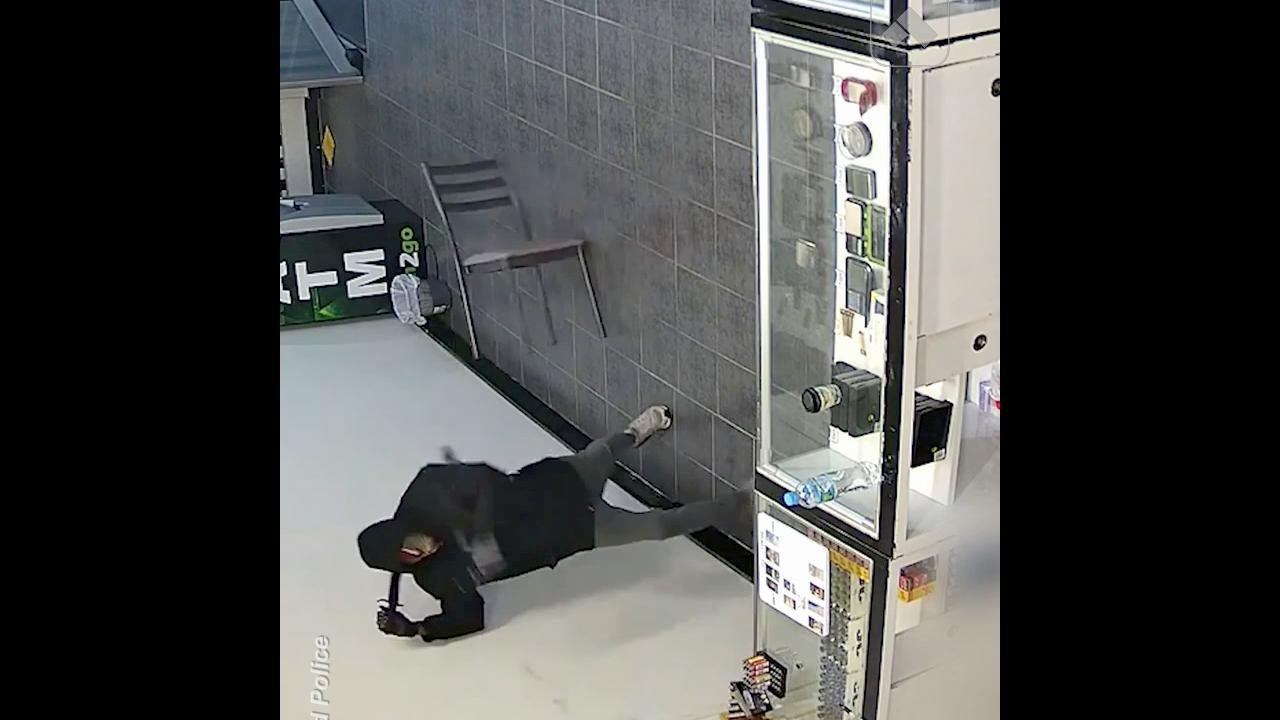melee: (381, 559, 415, 617)
